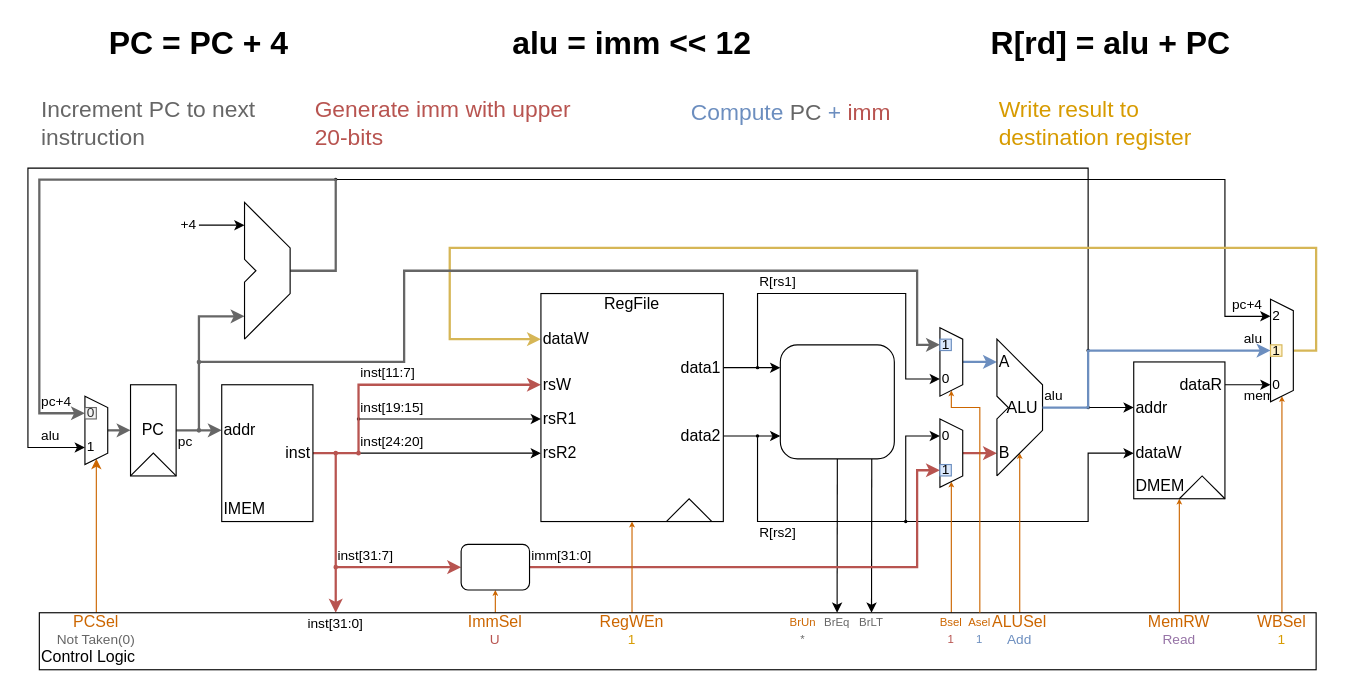
The diagram is 1346 pixels wide and 690 high, and some of its shapes have lost their labels. Each missing label, with the centre of its shape:
"Add" goes at (267,293).
"Branch Comp." goes at (836,401).
"Imm. Gen" goes at (495,566).
